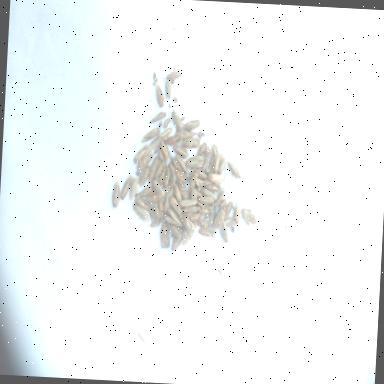pbw: (146, 156, 160, 186), (136, 152, 156, 172), (158, 221, 170, 251), (240, 207, 258, 227), (119, 174, 132, 201), (211, 207, 226, 230), (131, 207, 151, 224), (110, 180, 122, 208), (150, 200, 162, 228), (136, 165, 150, 188), (140, 127, 161, 142), (184, 154, 205, 169), (225, 160, 242, 178), (133, 144, 148, 164), (148, 110, 168, 125), (182, 216, 196, 237), (174, 168, 192, 184), (170, 154, 184, 174), (170, 109, 184, 129), (182, 224, 194, 246), (181, 136, 201, 149), (153, 160, 166, 180), (200, 187, 216, 203), (172, 146, 190, 160), (148, 135, 162, 153), (183, 118, 201, 132), (150, 180, 163, 199), (133, 199, 152, 212), (219, 222, 230, 244), (162, 188, 172, 212), (212, 190, 226, 207), (207, 172, 224, 186), (232, 198, 241, 224), (155, 87, 166, 108), (168, 198, 182, 214), (162, 164, 171, 188), (129, 176, 138, 200), (176, 182, 189, 198), (170, 234, 182, 251), (178, 198, 198, 208), (160, 142, 170, 162), (164, 80, 174, 100), (157, 126, 172, 139), (168, 164, 176, 188), (182, 204, 198, 216), (218, 156, 228, 175), (162, 214, 181, 224), (222, 200, 232, 219), (199, 228, 216, 238), (188, 210, 202, 222), (166, 70, 182, 80), (166, 224, 182, 234), (214, 154, 222, 174), (158, 166, 166, 186), (196, 142, 207, 156), (190, 169, 198, 188), (208, 207, 216, 226), (190, 188, 198, 206), (198, 195, 214, 204), (174, 186, 182, 202), (211, 144, 218, 162), (218, 198, 227, 212), (197, 178, 212, 186), (224, 218, 236, 228), (195, 219, 210, 226), (195, 170, 208, 178), (198, 206, 208, 216)
